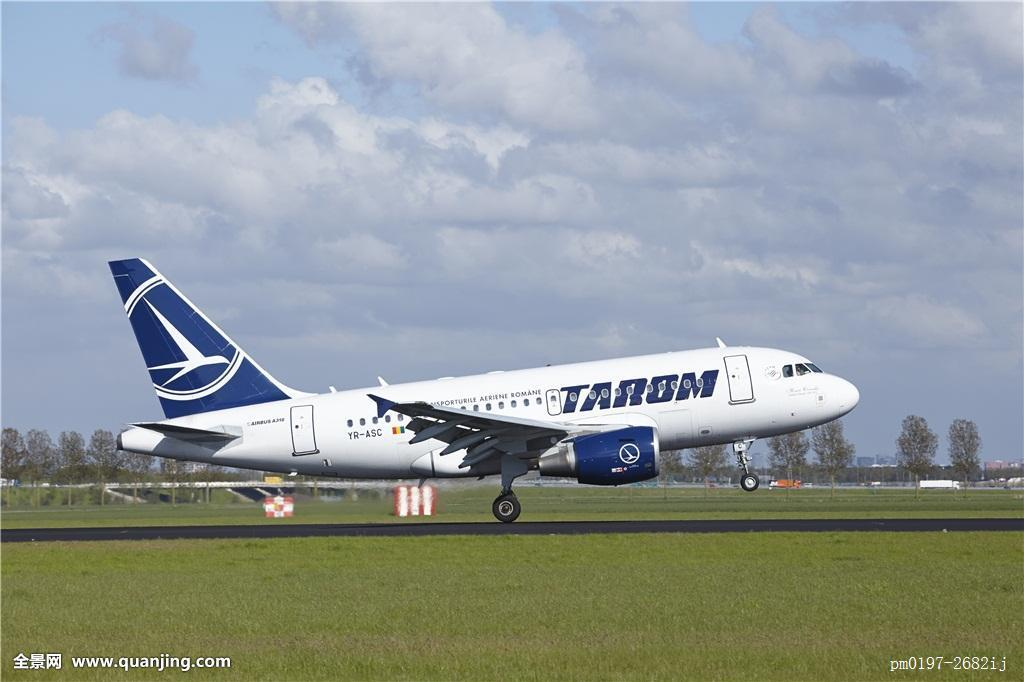airplane: (108, 256, 862, 526)
